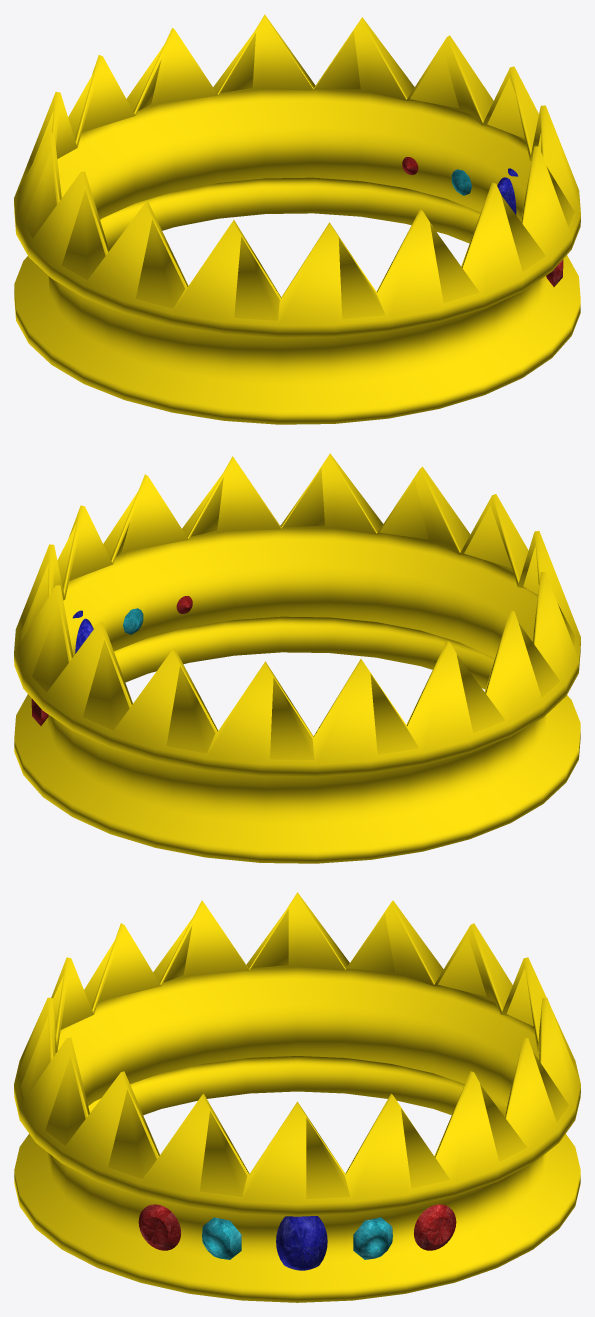
3 renders of one model, top to bottom at view 1: azimuth 30°, elevation 25°; view 2: azimuth 150°, elevation 25°; view 3: azimuth 270°, elevation 25°, orthographic.
Visible parts, largest first — view 1: Cylinder; view 2: Cylinder; view 3: Cylinder, Diamond, Diamond.001, Diamond.002, Gem, Gem.001.
Boxes of the visible parts, x1,y1,x2,y2 form: Cylinder: [14, 14, 580, 424]; Cylinder: [14, 453, 580, 863]; Cylinder: [14, 892, 580, 1302]; Diamond: [276, 1216, 327, 1270]; Diamond.001: [138, 1204, 180, 1250]; Diamond.002: [414, 1204, 456, 1250]; Gem: [353, 1217, 392, 1259]; Gem.001: [202, 1217, 241, 1259].
Size of the model in its own units: 2.32 by 0.8925 by 2.32.
Materials: 4 (3 with a texture image).
